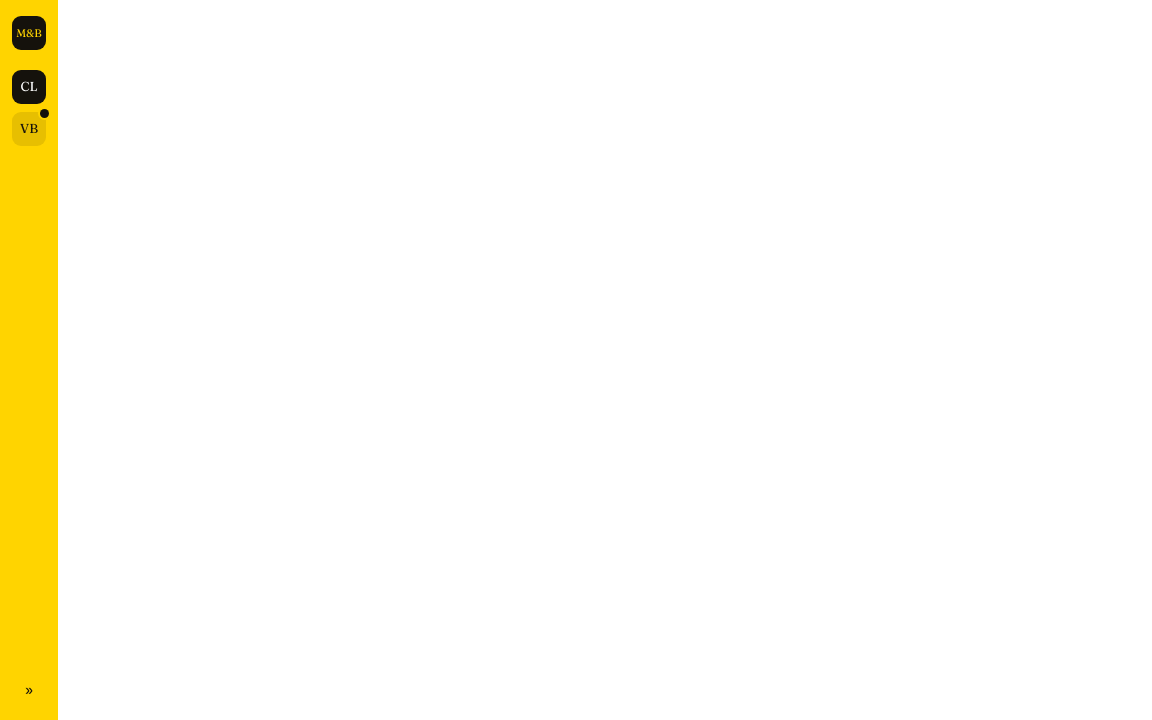
it: BarraProyectos › Escape la vuelve a recoger
The image size is (1152, 720).
Click the button named "Ver los nombres" at (29, 689), box x1=14 y1=674 x2=44 y2=704
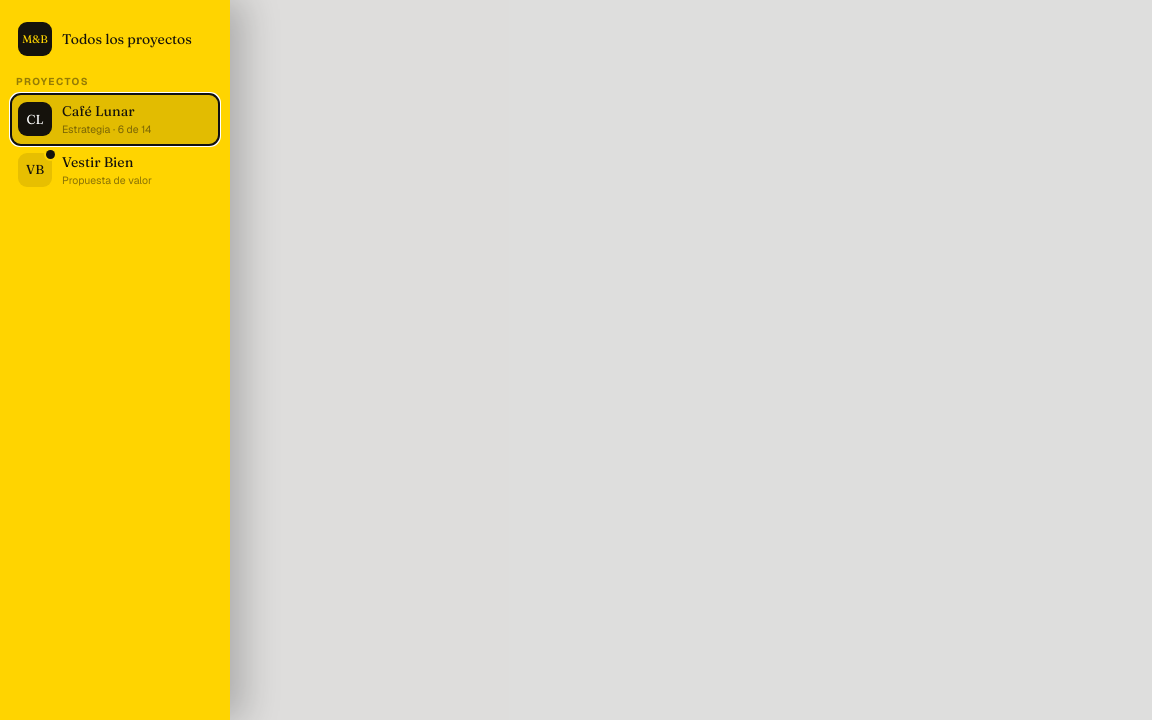
Press Escape
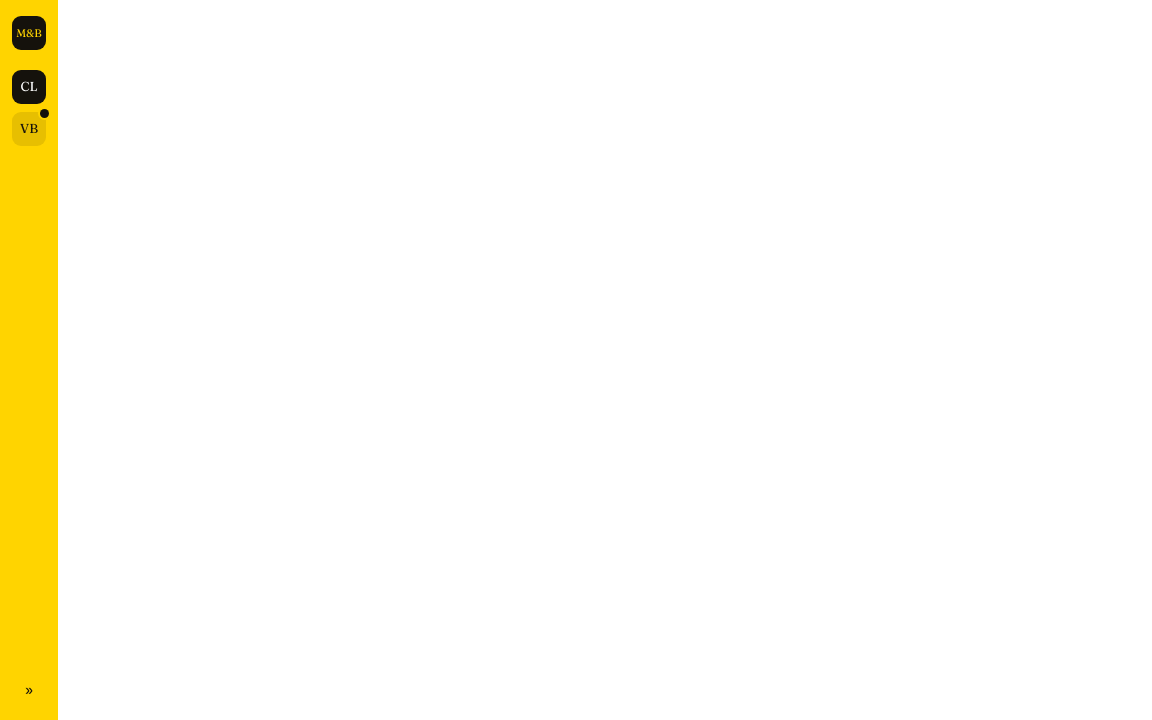
Result: the link "Café Lunar" is gone
